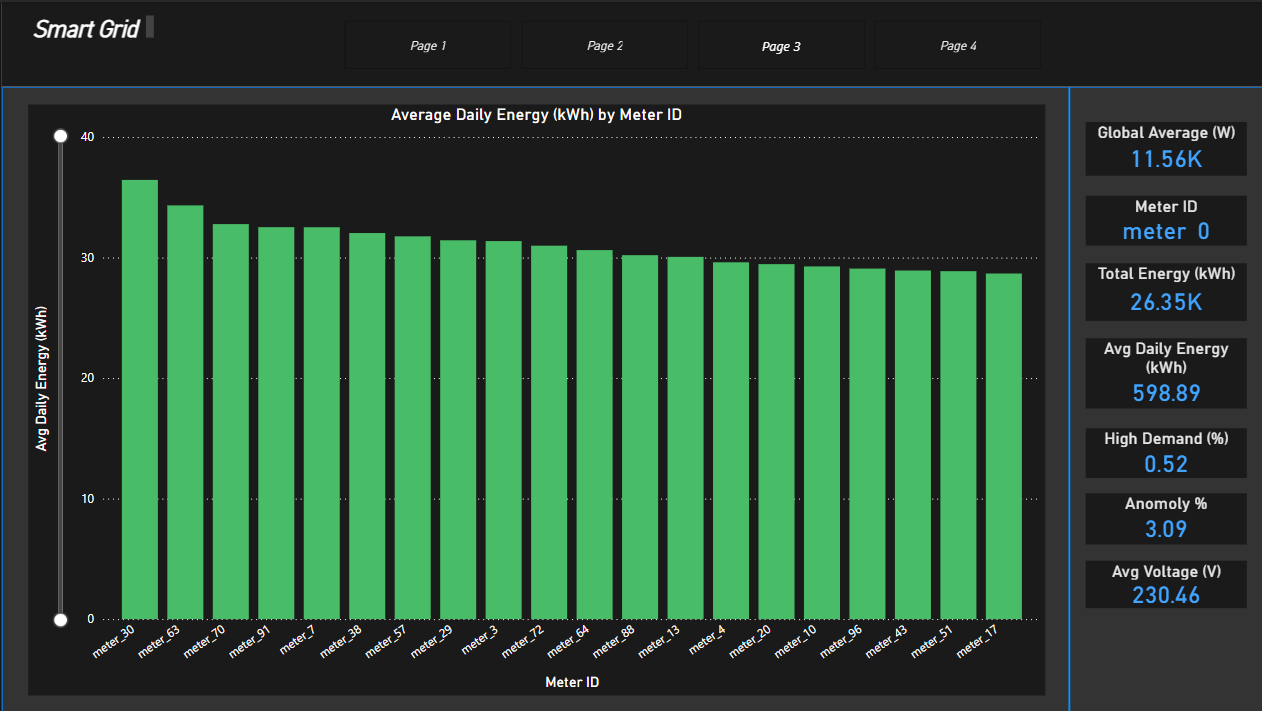

The page's visual inventory and layout, read from the dashboard file:
{"tool":"powerbi","page":{"name":"Page 3","canvas":[1280,720],"ordinal":2},"visuals":[{"type":"shape","box":[0,85.8,1081,634.4],"z":0},{"type":"shape","box":[1081,85.8,199,634.4],"z":1000},{"type":"shape","title":"Smart Grid","box":[0,0,1280,85.8],"z":2000},{"type":"card","title":"Global Average (W)","fields":{"Values":["smart_grid_curated.Global Average Watts"]},"box":[1097.9,121.6,163.4,54.5],"z":3000},{"type":"card","title":"Avg Voltage (V)","fields":{"Values":["smart_grid_curated.Avg Voltage (V)"]},"box":[1097.9,566,163.4,48.1],"z":4000},{"type":"card","title":"Meter ID","fields":{"Values":["Min(smart_grid_curated.meter_id)"]},"box":[1097.9,196.3,163.4,50.7],"z":5000},{"type":"textbox","box":[26.1,8.7,131.9,34.8],"z":6000},{"type":"pageNavigator","box":[347.1,18.7,709.1,49.8],"z":7000},{"type":"clusteredColumnChart","title":"Average Daily Energy (kWh) by Meter ID","fields":{"Category":["smart_grid_curated.meter_id"],"Y":["smart_grid_curated.Avg Daily Energy (kWh)"]},"box":[26.1,103.2,1030,598.3],"z":8000},{"type":"card","title":"Anomoly %","fields":{"Values":["smart_grid_curated.Anomaly %"]},"box":[1097.9,497.7,163.4,51.9],"z":9000},{"type":"card","title":"Total Energy (kWh)","fields":{"Values":["smart_grid_curated.Total Energy (kWh)"]},"box":[1097.9,264.7,163.4,58.3],"z":10000},{"type":"card","title":"High Demand (%)","fields":{"Values":["smart_grid_curated.High Demand %"]},"box":[1097.9,431.8,163.4,50.7],"z":11000},{"type":"card","title":"Avg Daily Energy (kWh)","fields":{"Values":["smart_grid_curated.Avg Daily Energy (kWh)"]},"box":[1097.9,340.6,163.4,70.9],"z":12000}]}

Visuals, with their boxes in screenshot pixels (x1, y1, x2, y2), scaled from the page's 1280x720 canvas onto the 1262x711 screenshot:
shape: {"left": 0, "top": 85, "right": 1066, "bottom": 710}
shape: {"left": 1066, "top": 85, "right": 1261, "bottom": 710}
"Smart Grid" shape: {"left": 0, "top": 0, "right": 1261, "bottom": 85}
"Global Average (W)" card: {"left": 1082, "top": 120, "right": 1244, "bottom": 174}
"Avg Voltage (V)" card: {"left": 1082, "top": 559, "right": 1244, "bottom": 606}
"Meter ID" card: {"left": 1082, "top": 194, "right": 1244, "bottom": 244}
textbox: {"left": 26, "top": 9, "right": 156, "bottom": 43}
pageNavigator: {"left": 342, "top": 18, "right": 1041, "bottom": 68}
"Average Daily Energy (kWh) by Meter ID" clusteredColumnChart: {"left": 26, "top": 102, "right": 1041, "bottom": 693}
"Anomoly %" card: {"left": 1082, "top": 491, "right": 1244, "bottom": 543}
"Total Energy (kWh)" card: {"left": 1082, "top": 261, "right": 1244, "bottom": 319}
"High Demand (%)" card: {"left": 1082, "top": 426, "right": 1244, "bottom": 476}
"Avg Daily Energy (kWh)" card: {"left": 1082, "top": 336, "right": 1244, "bottom": 406}
